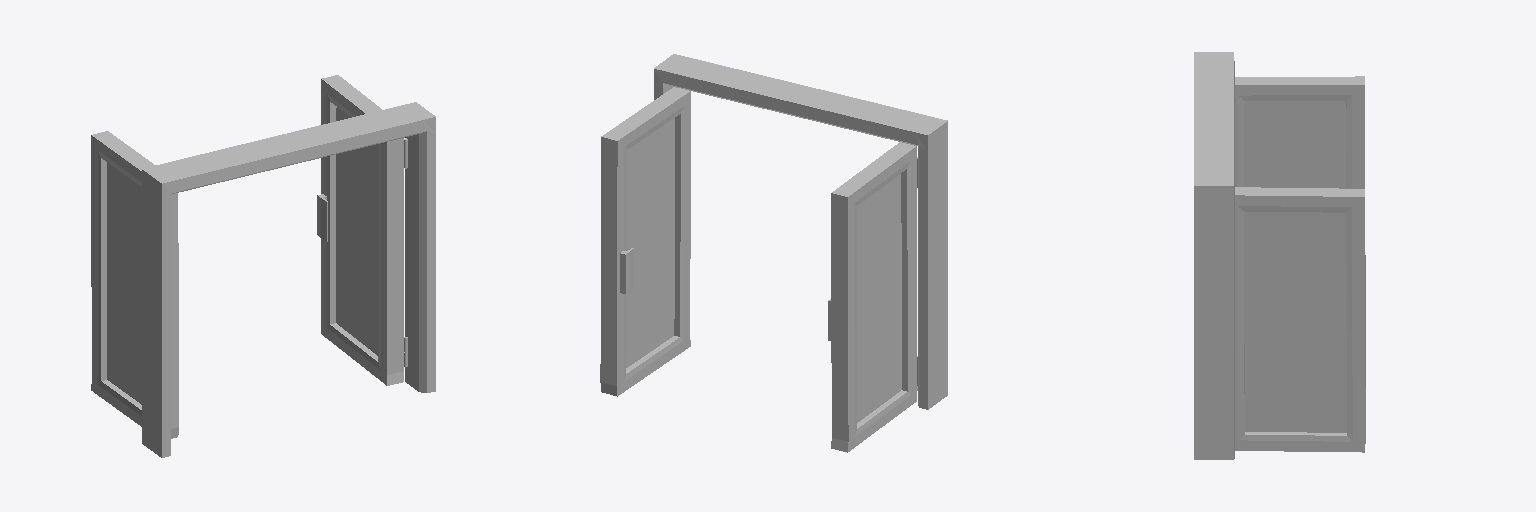
The model's file is double_door.obj.
3 views of the same model, side by side, from view 1: azimuth 30°, elevation 25°; view 2: azimuth 150°, elevation 25°; view 3: azimuth 270°, elevation 25° (orthographic).
Parts seen in each view (by area): view 1: Cube.010_chrome_Cube.010_chrome_frame, Cube_Cube.001_chrome_Cube_Cube.001_chrome_frame, sweethome3d_window_pa_sweethome3d_window_pa_Glass, Cube.002_Cube.006_chr_Cube.002_Cube.006_chr_frame, sweethome3d_window_sweethome3d_window_Glass; view 2: Cube.010_chrome_Cube.010_chrome_frame, Cube_Cube.001_chrome_Cube_Cube.001_chrome_frame, Cube.002_Cube.006_chr_Cube.002_Cube.006_chr_frame, sweethome3d_window_pa_sweethome3d_window_pa_Glass, sweethome3d_window_sweethome3d_window_Glass, Cube.003_Cube.004_chr_Cube.003_Cube.004_chr_frame; view 3: sweethome3d_window_pa_sweethome3d_window_pa_Glass, Cube.010_chrome_Cube.010_chrome_frame, Cube_Cube.001_chrome_Cube_Cube.001_chrome_frame, sweethome3d_window_sweethome3d_window_Glass, Cube.002_Cube.006_chr_Cube.002_Cube.006_chr_frame.
Part boxes in pixels (left/top/right/bottom): Cube.010_chrome_Cube.010_chrome_frame: left=142, top=102, right=435, bottom=457; Cube_Cube.001_chrome_Cube_Cube.001_chrome_frame: left=321, top=75, right=403, bottom=385; sweethome3d_window_pa_sweethome3d_window_pa_Glass: left=336, top=107, right=378, bottom=355; Cube.002_Cube.006_chr_Cube.002_Cube.006_chr_frame: left=91, top=131, right=178, bottom=438; sweethome3d_window_sweethome3d_window_Glass: left=107, top=163, right=141, bottom=404; Cube.010_chrome_Cube.010_chrome_frame: left=654, top=54, right=947, bottom=409; Cube_Cube.001_chrome_Cube_Cube.001_chrome_frame: left=600, top=87, right=690, bottom=396; Cube.002_Cube.006_chr_Cube.002_Cube.006_chr_frame: left=831, top=142, right=917, bottom=452; sweethome3d_window_pa_sweethome3d_window_pa_Glass: left=626, top=118, right=674, bottom=367; sweethome3d_window_sweethome3d_window_Glass: left=857, top=174, right=901, bottom=422; Cube.003_Cube.004_chr_Cube.003_Cube.004_chr_frame: left=620, top=248, right=633, bottom=293; sweethome3d_window_pa_sweethome3d_window_pa_Glass: left=1244, top=212, right=1346, bottom=432; Cube.010_chrome_Cube.010_chrome_frame: left=1194, top=52, right=1234, bottom=459; Cube_Cube.001_chrome_Cube_Cube.001_chrome_frame: left=1235, top=187, right=1365, bottom=452; sweethome3d_window_sweethome3d_window_Glass: left=1244, top=101, right=1345, bottom=188; Cube.002_Cube.006_chr_Cube.002_Cube.006_chr_frame: left=1235, top=76, right=1364, bottom=188.
Bounding box in the file's own units: 220 × 210 × 120.